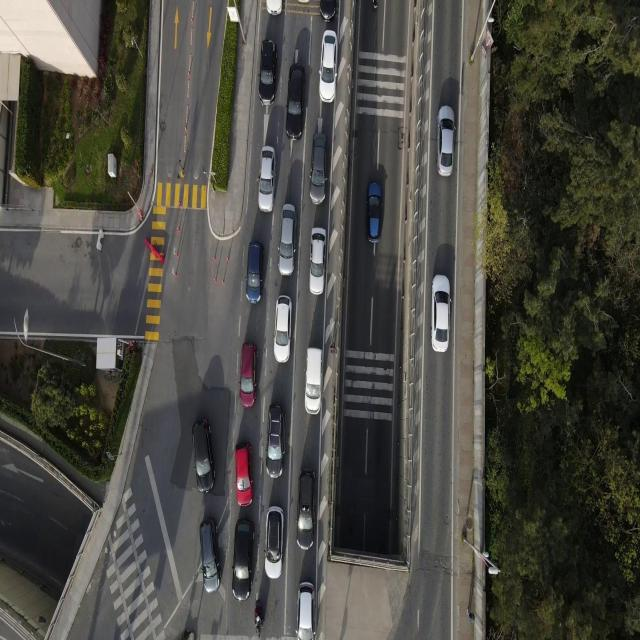p3rson: (466, 606, 475, 625)
